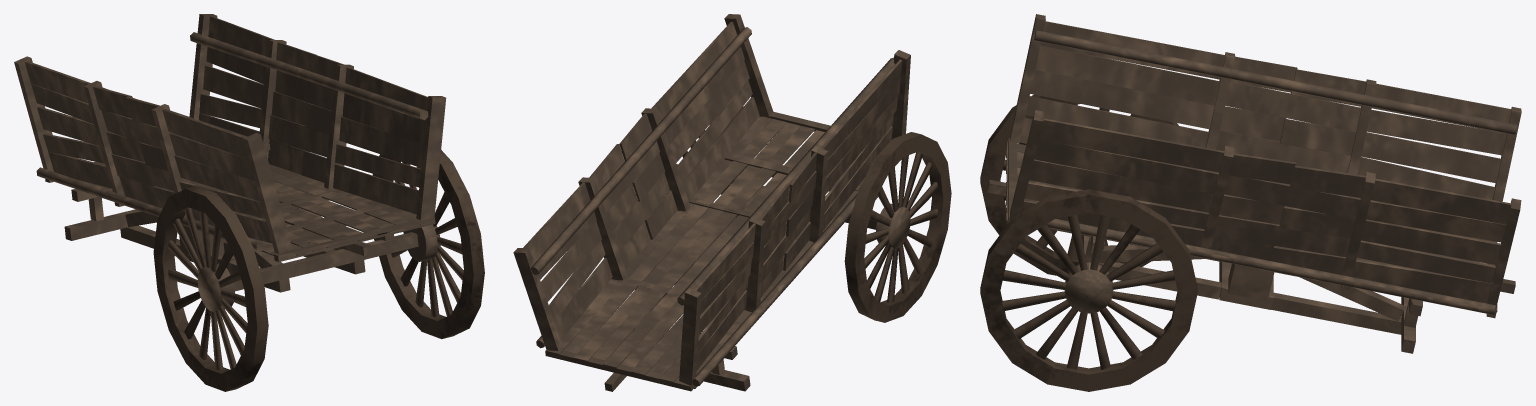
File: vozejk.glb
3 renders of one model, left to right at view 1: azimuth 30°, elevation 25°; view 2: azimuth 150°, elevation 25°; view 3: azimuth 270°, elevation 25°, orthographic. The views are drawn at different scales.
Visible parts, largest first — view 1: vozejk; view 2: vozejk; view 3: vozejk.
Part boxes in pixels (box(x1,y1,x2,y2)): vozejk: box(14, 14, 484, 391); vozejk: box(513, 14, 951, 391); vozejk: box(980, 14, 1521, 391).
Bounding box in the file's own units: 2.2 × 2.4 × 4.31.
1 material, 1 textured.
